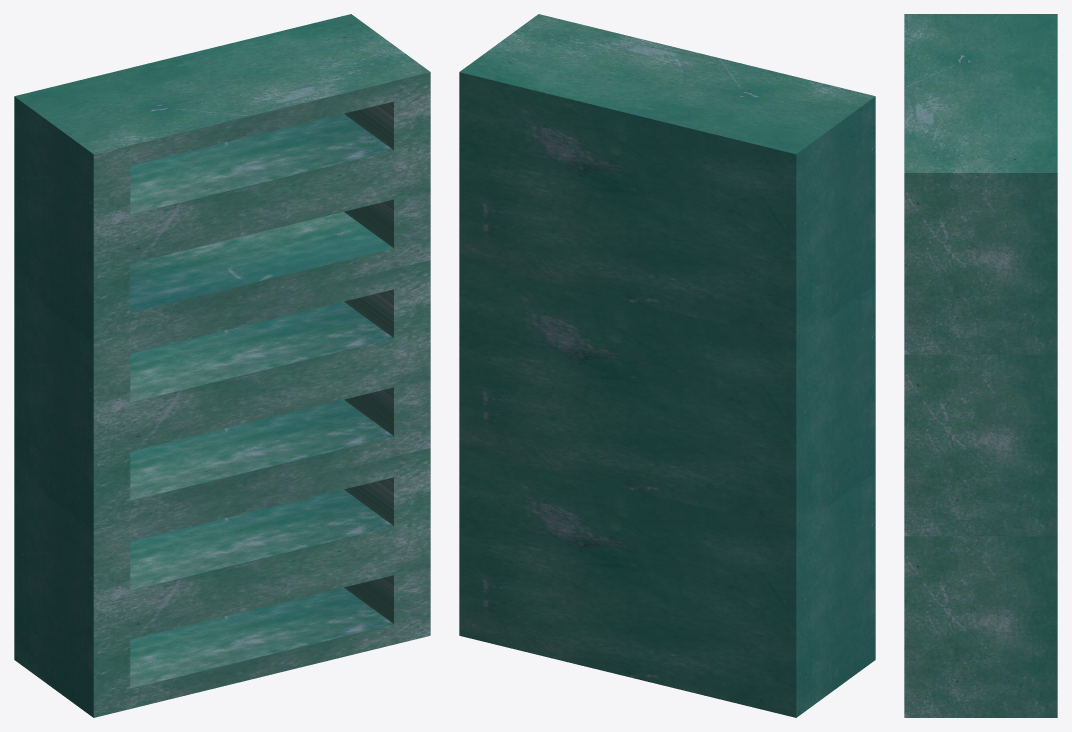
File: Estante Libro.fbx
3 renders of one model, left to right at view 1: azimuth 30°, elevation 25°; view 2: azimuth 150°, elevation 25°; view 3: azimuth 270°, elevation 25°, orthographic. The views are drawn at different scales.
Parts seen in each view (by area): view 1: Cube.010; view 2: Cube.010; view 3: Cube.010.
Part boxes in pixels (x1,y1,x2,y2): Cube.010: (14, 14, 430, 717); Cube.010: (459, 14, 875, 717); Cube.010: (904, 14, 1057, 717).
Bounding box in the file's own units: 114 × 183 × 46.64.
